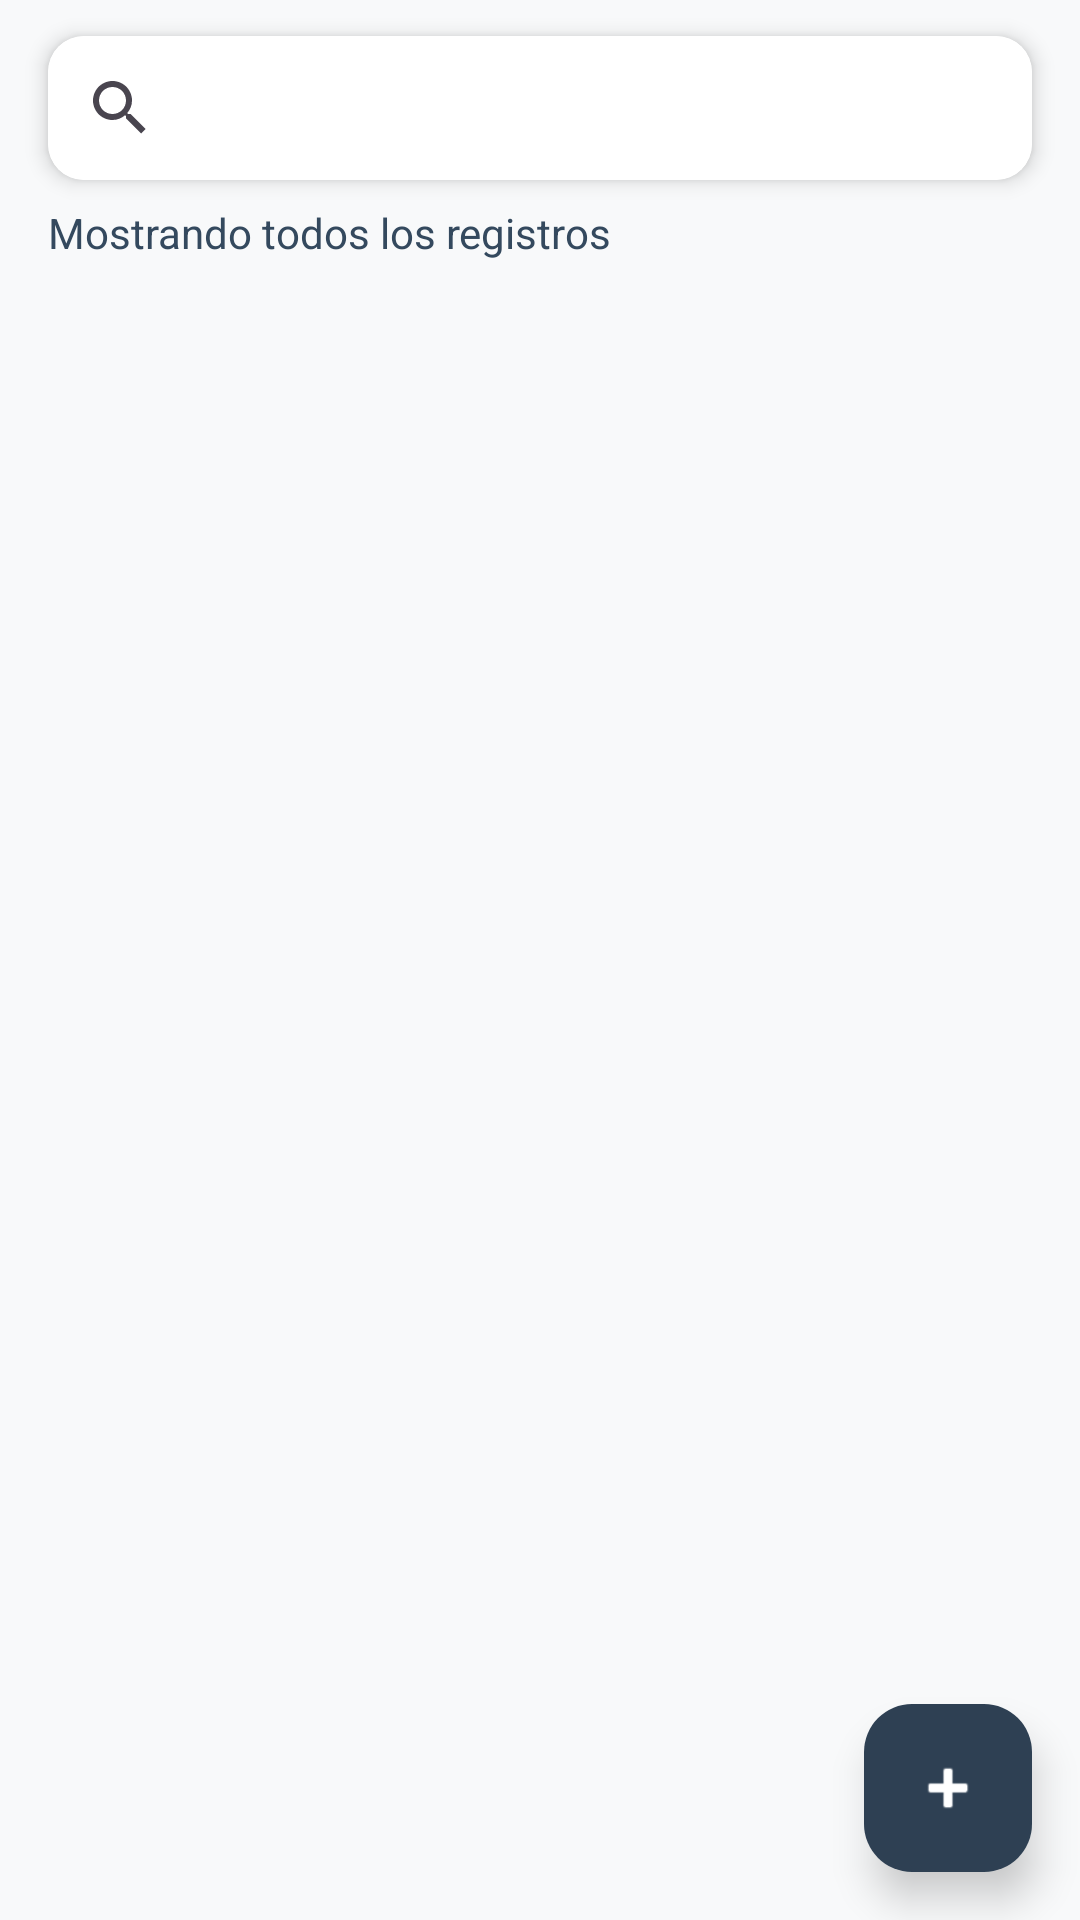

Where icons sit on this 1080px×1920px app screen, as (x1, y1, x2, y2):
Añadir persona desaparecida: (864, 1704, 1032, 1872)
